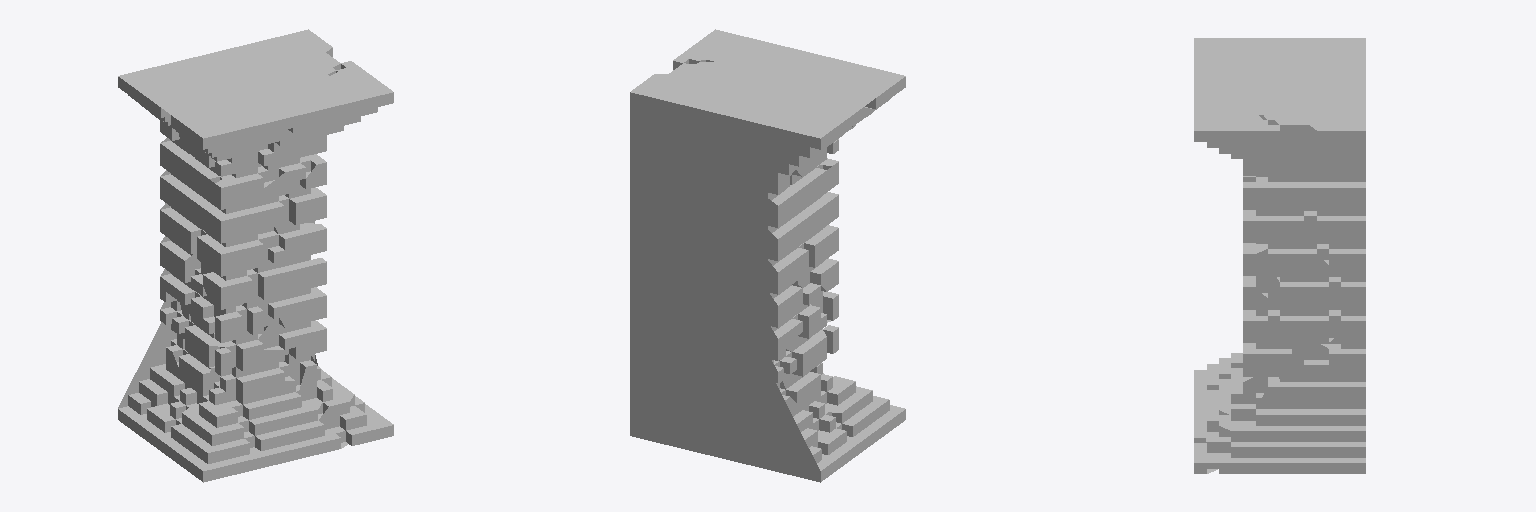
Rendered from Pillar_Ext_SemiBricks_Cracked.obj.
3 renders of one model, left to right at view 1: azimuth 30°, elevation 25°; view 2: azimuth 150°, elevation 25°; view 3: azimuth 270°, elevation 25°, orthographic.
Parts seen in each view (by area): view 1: Pillar_Ext_SemiBricks_Cracked_Pillar_Ext_SemiBricks_Cracked.001; view 2: Pillar_Ext_SemiBricks_Cracked_Pillar_Ext_SemiBricks_Cracked.001; view 3: Pillar_Ext_SemiBricks_Cracked_Pillar_Ext_SemiBricks_Cracked.001.
Boxes of the visible parts, <box> form: Pillar_Ext_SemiBricks_Cracked_Pillar_Ext_SemiBricks_Cracked.001: <box>118,29,393,482</box>; Pillar_Ext_SemiBricks_Cracked_Pillar_Ext_SemiBricks_Cracked.001: <box>630,29,905,482</box>; Pillar_Ext_SemiBricks_Cracked_Pillar_Ext_SemiBricks_Cracked.001: <box>1194,38,1365,473</box>.
Size of the model in its own units: 1.8 by 3.1 by 1.4.